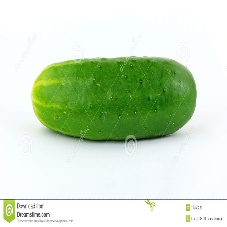cucumber: (33, 55, 199, 142)
